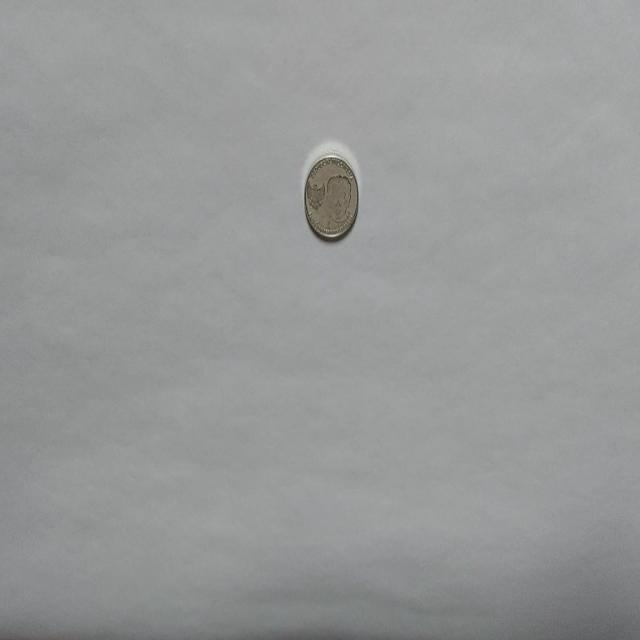seratus rupiah: (303, 152, 359, 241)
